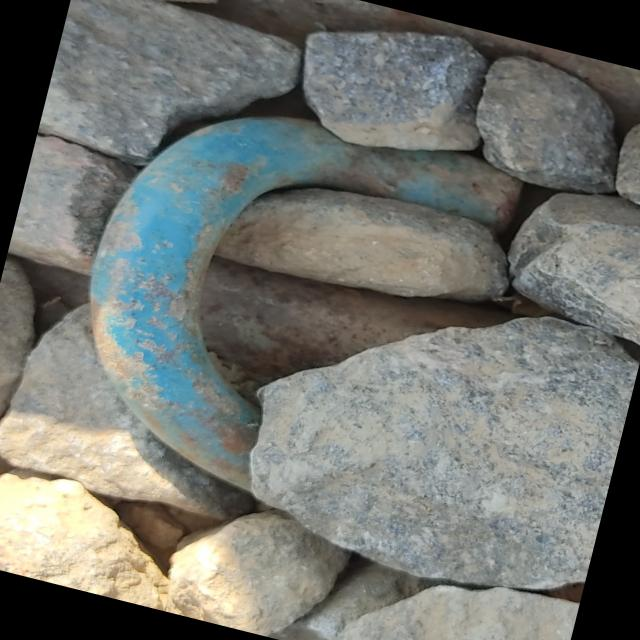track_bolt: (33, 64, 536, 544)
